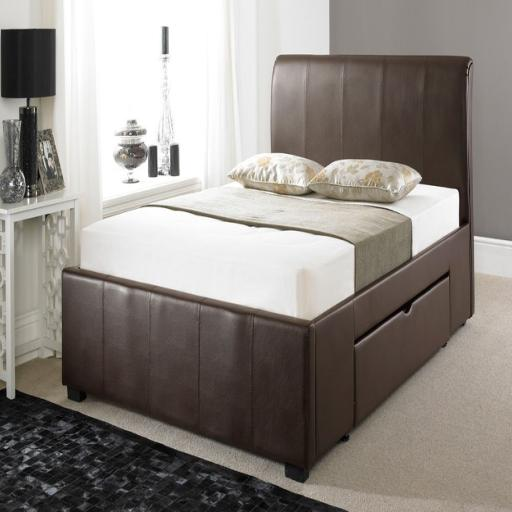bed: (62, 53, 474, 484)
